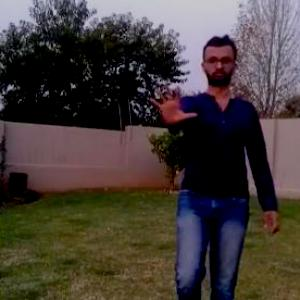follow_hand: (142, 76, 198, 128)
